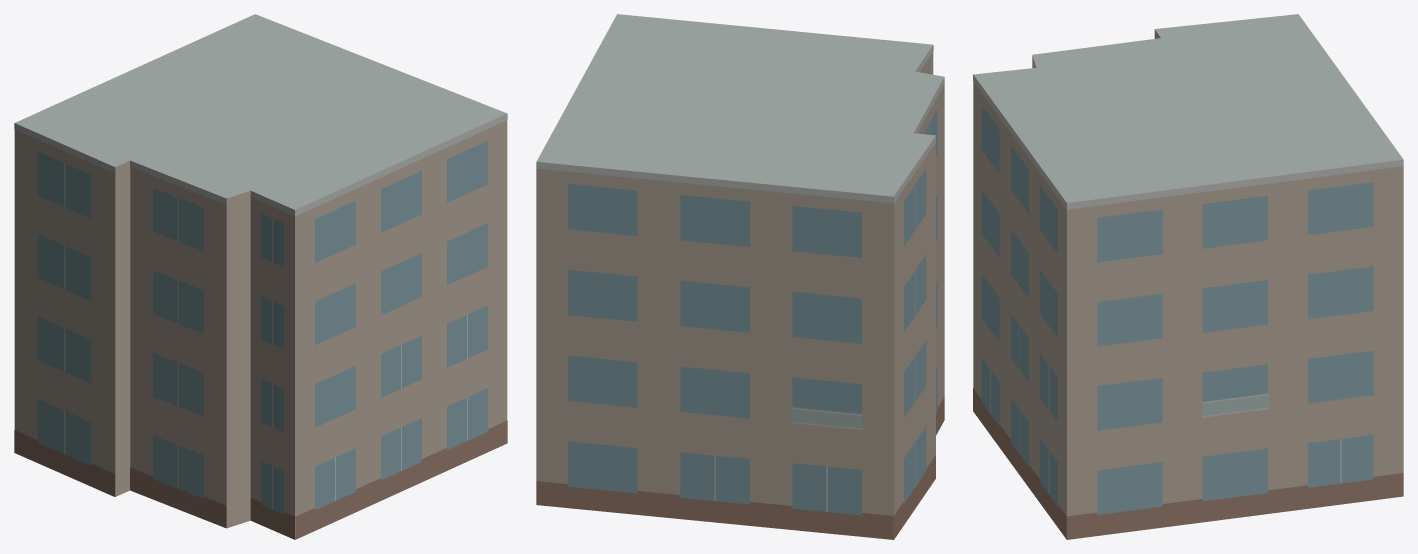
Rendered from survey-upis-32465503.glb.
The picture shows the model from 3 angles, left to right: view 1: azimuth 30°, elevation 25°; view 2: azimuth 150°, elevation 25°; view 3: azimuth 270°, elevation 25°; orthographic projection. The views are drawn at different scales.
Parts seen in each view (by area): view 1: survey-upis-32465503.tmp; view 2: survey-upis-32465503.tmp; view 3: survey-upis-32465503.tmp.
Part boxes in pixels (left/top/right/bottom): survey-upis-32465503.tmp: left=14, top=14, right=507, bottom=539; survey-upis-32465503.tmp: left=536, top=14, right=944, bottom=539; survey-upis-32465503.tmp: left=973, top=14, right=1403, bottom=539.
Bounding box in the file's own units: 14.85 × 12.33 × 14.29.
